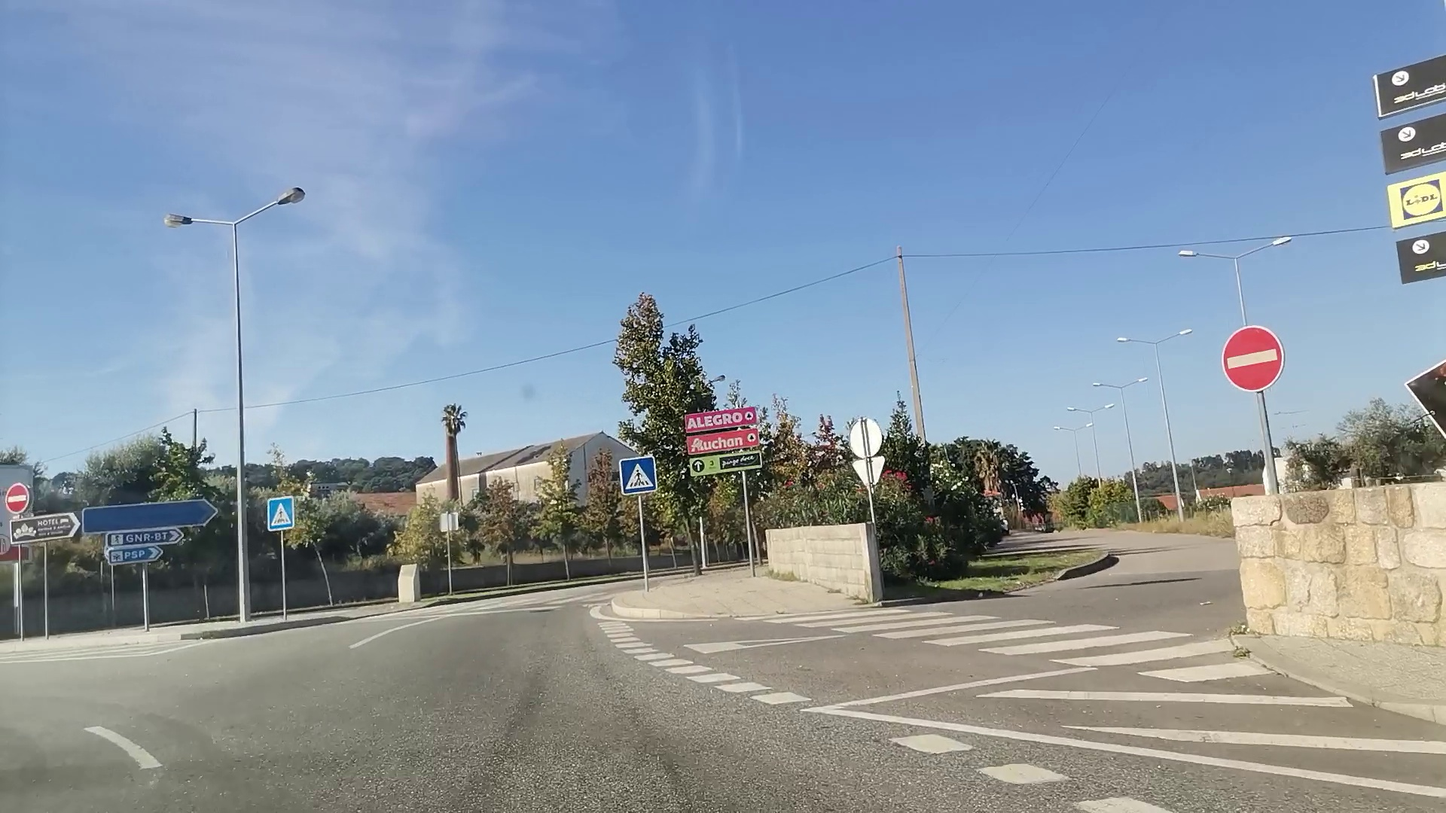Stairs: (783, 597, 1258, 688)
